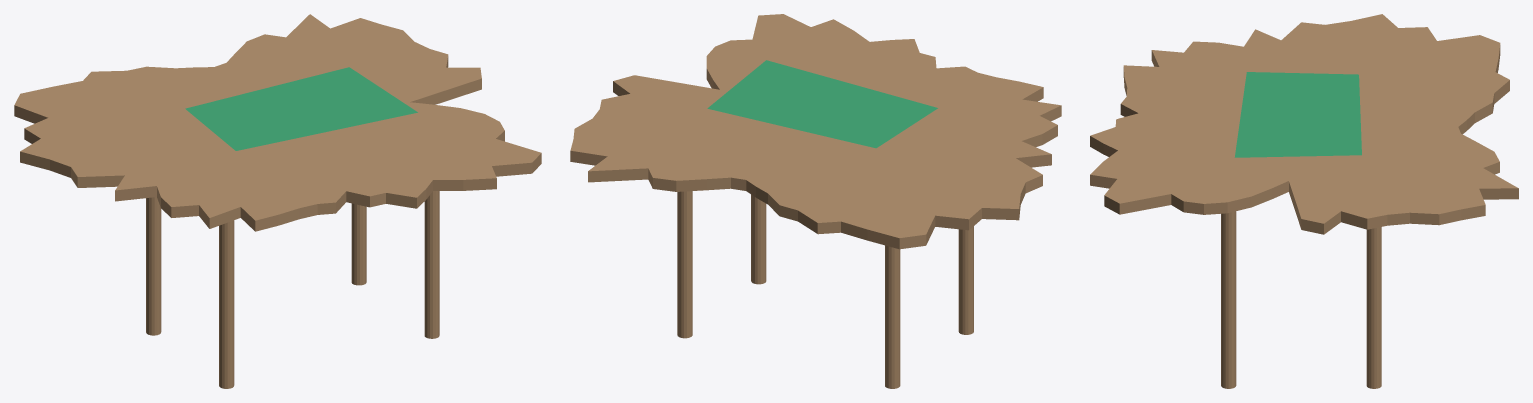
Rendered from mesa_organica_v02.glb.
3 renders of one model, left to right at view 1: azimuth 30°, elevation 25°; view 2: azimuth 150°, elevation 25°; view 3: azimuth 270°, elevation 25°, orthographic.
Parts seen in each view (by area): view 1: Tapa_Organica_V2, Fieltro_V2, Pata_V1_1, Pata_V1_2, Pata_V1_3, Pata_V1_4; view 2: Tapa_Organica_V2, Fieltro_V2, Pata_V1_4, Pata_V1_3, Pata_V1_1, Pata_V1_2; view 3: Tapa_Organica_V2, Fieltro_V2, Pata_V1_2, Pata_V1_4.
Part boxes in pixels (box(x1,y1,x2,y2)): Tapa_Organica_V2: box(14, 14, 541, 231); Fieltro_V2: box(185, 67, 417, 150); Pata_V1_1: box(219, 220, 234, 388); Pata_V1_2: box(424, 191, 439, 338); Pata_V1_3: box(146, 197, 161, 335); Pata_V1_4: box(351, 203, 366, 285); Tapa_Organica_V2: box(570, 14, 1061, 249); Fieltro_V2: box(707, 60, 937, 148); Pata_V1_4: box(677, 191, 692, 338); Pata_V1_3: box(885, 245, 900, 388); Pata_V1_1: box(958, 226, 973, 334); Pata_V1_2: box(751, 194, 766, 284); Tapa_Organica_V2: box(1090, 14, 1518, 234); Fieltro_V2: box(1234, 72, 1361, 157); Pata_V1_2: box(1221, 211, 1236, 388); Pata_V1_4: box(1366, 227, 1381, 388).
Bounding box in the file's own units: 1.64 × 0.811 × 1.41.
